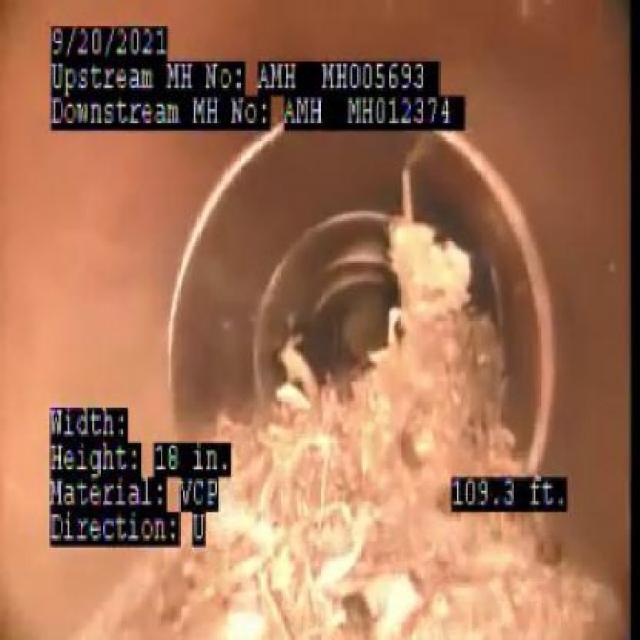Obstacle: (223, 214, 532, 583)
